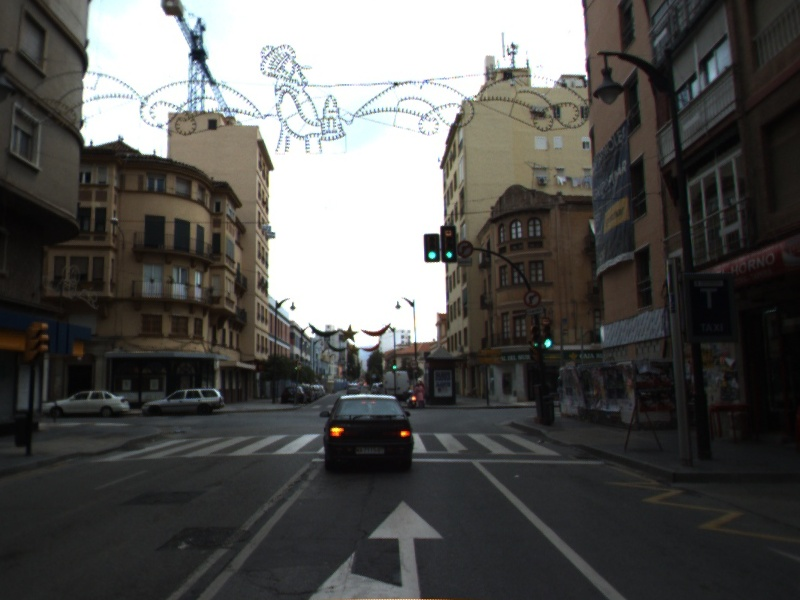STRAIGHT_LEFT: (306, 496, 448, 600)
